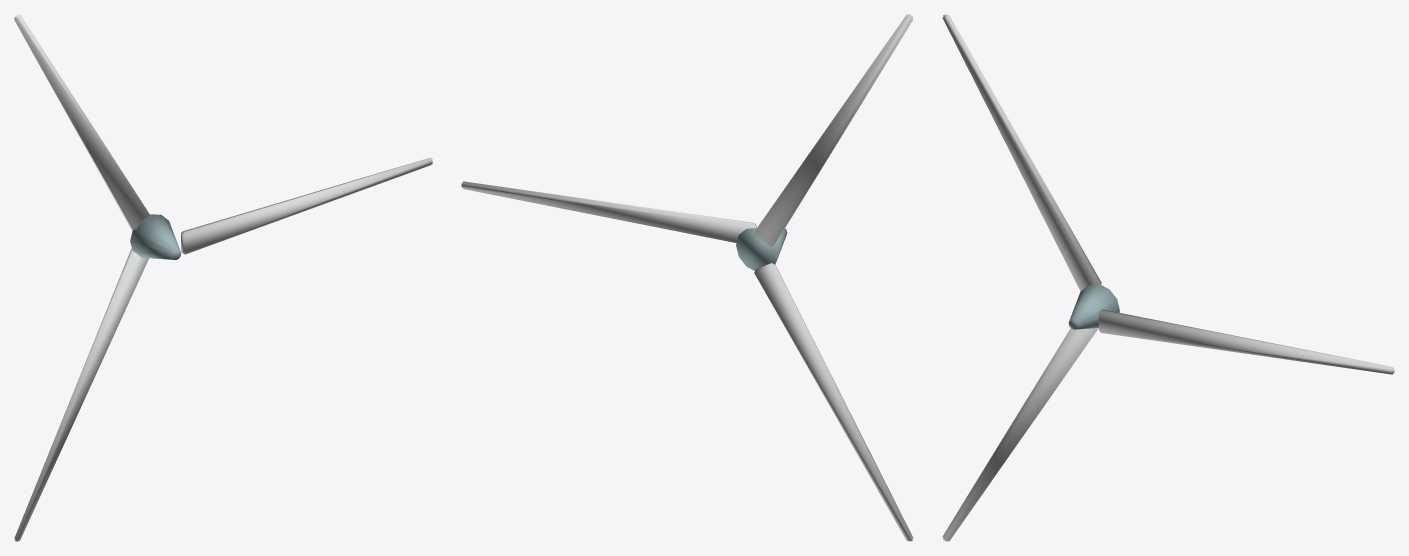
Rendered from wind-rotor.glb.
3 renders of one model, left to right at view 1: azimuth 30°, elevation 25°; view 2: azimuth 150°, elevation 25°; view 3: azimuth 330°, elevation 25°, orthographic.
Parts seen in each view (by area): view 1: WindRotor; view 2: WindRotor; view 3: WindRotor.
Part boxes in pixels (x1,y1,x2,y2): WindRotor: (14,14,432,541); WindRotor: (461,14,913,541); WindRotor: (942,14,1394,541).
Size of the model in its own units: 1.77 by 2.05 by 0.2335.
